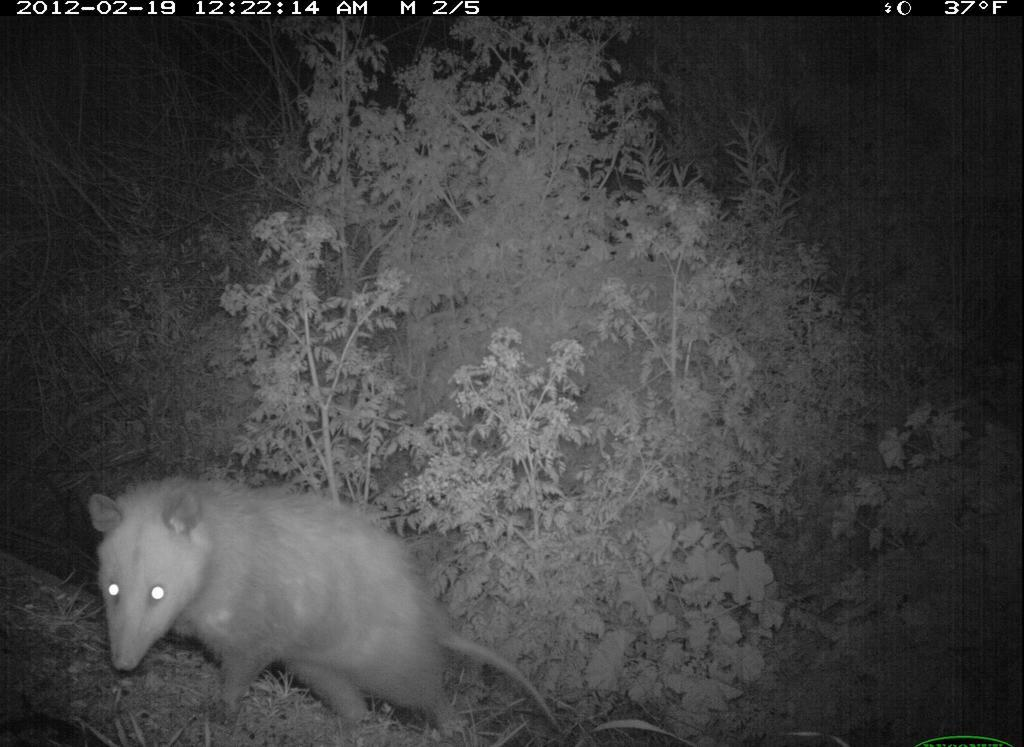opossum: (86, 473, 571, 743)
